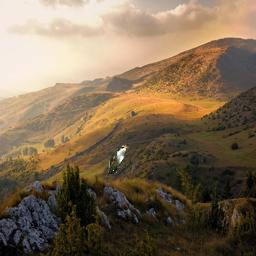Cuckoo: (108, 145, 129, 174)
